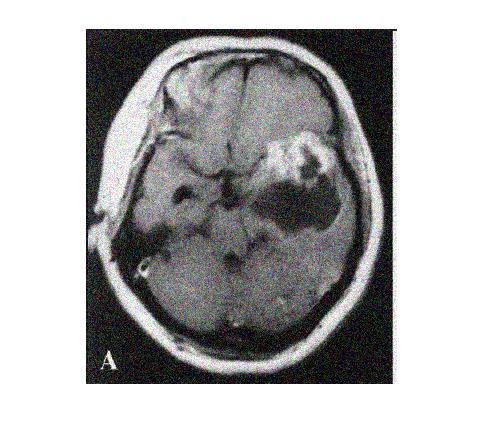Brain_Cancer: (255, 130, 334, 181)
